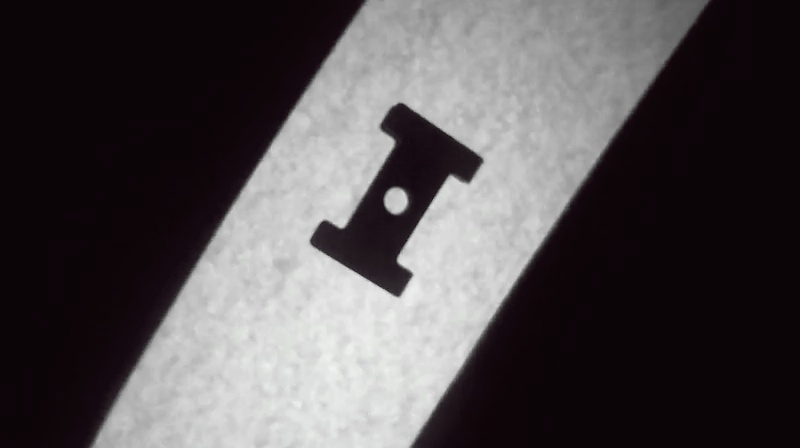O002: (304, 100, 487, 300)
